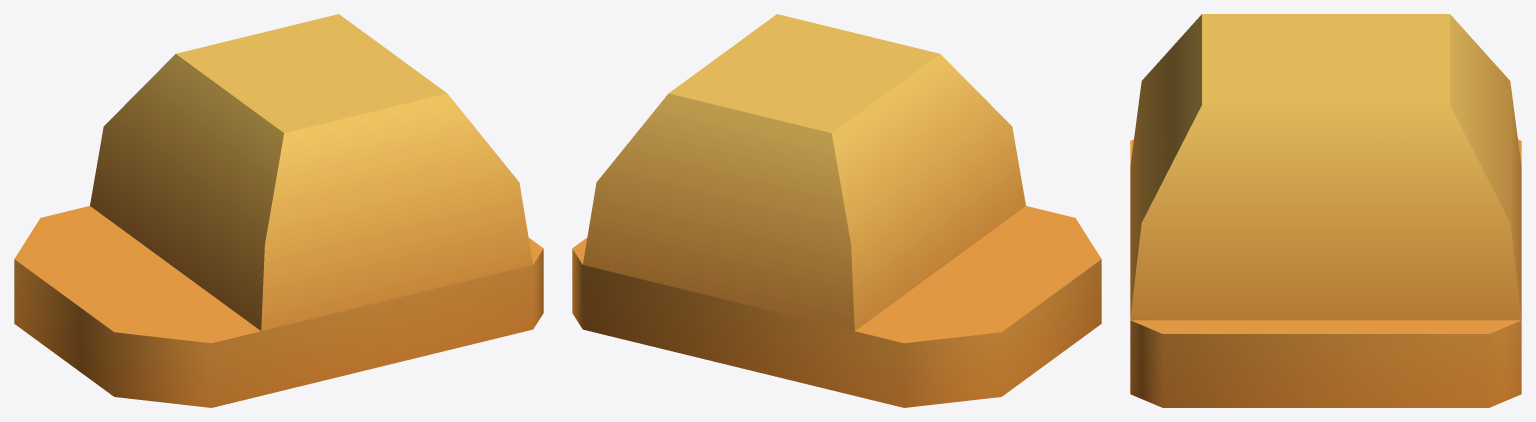
The model's file is hat-hard.glb.
3 renders of one model, left to right at view 1: azimuth 30°, elevation 25°; view 2: azimuth 150°, elevation 25°; view 3: azimuth 270°, elevation 25°, orthographic. The views are drawn at different scales.
Parts seen in each view (by area): view 1: hat-hard; view 2: hat-hard; view 3: hat-hard.
Part boxes in pixels (x1,y1,x2,y2): hat-hard: (14, 14, 543, 407); hat-hard: (572, 14, 1101, 407); hat-hard: (1130, 14, 1521, 407).
Bounding box in the file's own units: 0.33 × 0.175 × 0.24.
Materials: 1 (1 with a texture image).
